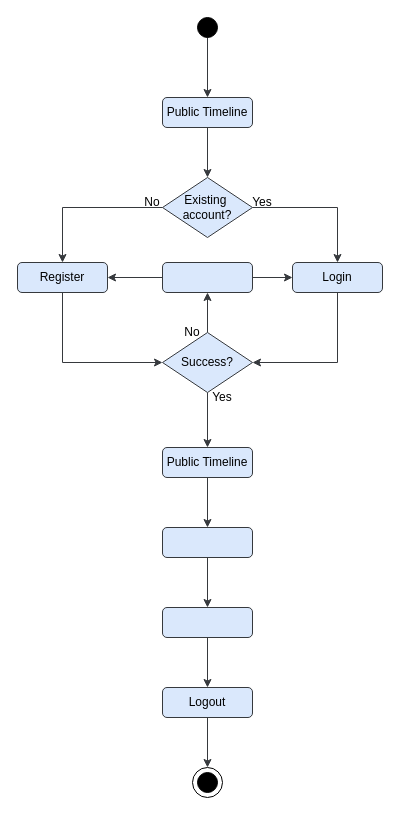
The diagram is 400 pixels wide and 815 high, and some of its shapes have lost their labels. The shapes that lost their labels are listed below. From the top down, each one's centre as x and y in pixels, then its label:
At (207,277): "Retry".
At (207,542): "About me".
At (207,622): "Forget me".
